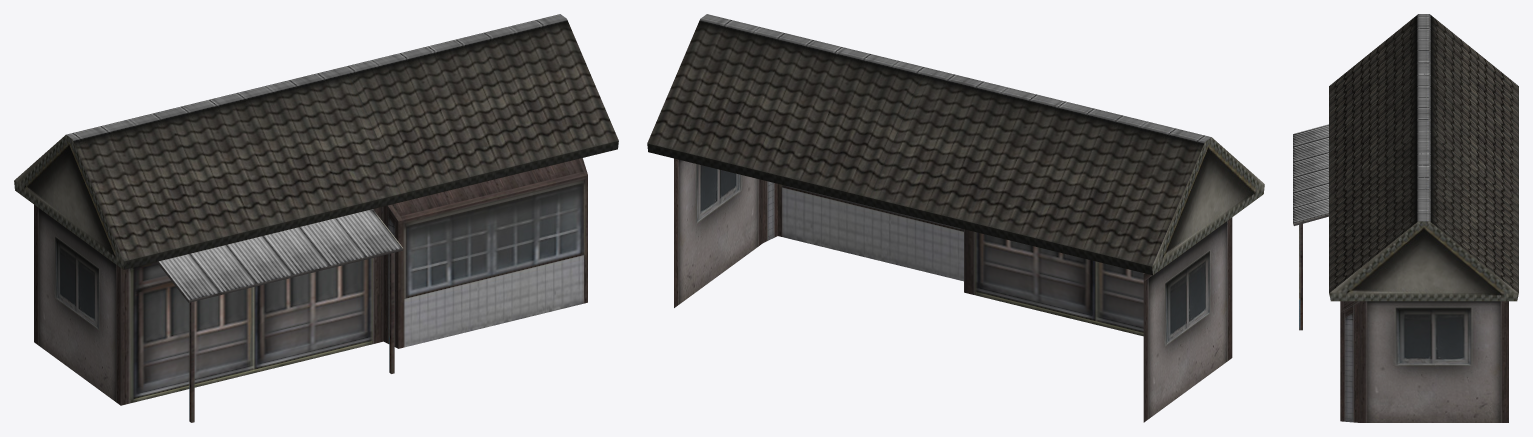
Rendered from sangga_japan3.FBX.
3 views of the same model, side by side, from view 1: azimuth 30°, elevation 25°; view 2: azimuth 150°, elevation 25°; view 3: azimuth 270°, elevation 25° (orthographic). The views are drawn at different scales.
Parts seen in each view (by area): view 1: Object001, Object002; view 2: Object001; view 3: Object001, Object002.
Boxes of the visible parts, left/top/right/bottom form: Object001: left=14, top=14, right=618, bottom=405; Object002: left=157, top=209, right=403, bottom=422; Object001: left=647, top=14, right=1264, bottom=422; Object001: left=1329, top=14, right=1518, bottom=422; Object002: left=1293, top=124, right=1328, bottom=330.
Size of the model in its own units: 59.06 by 27.95 by 27.19.
Materials: 1 (1 with a texture image).
